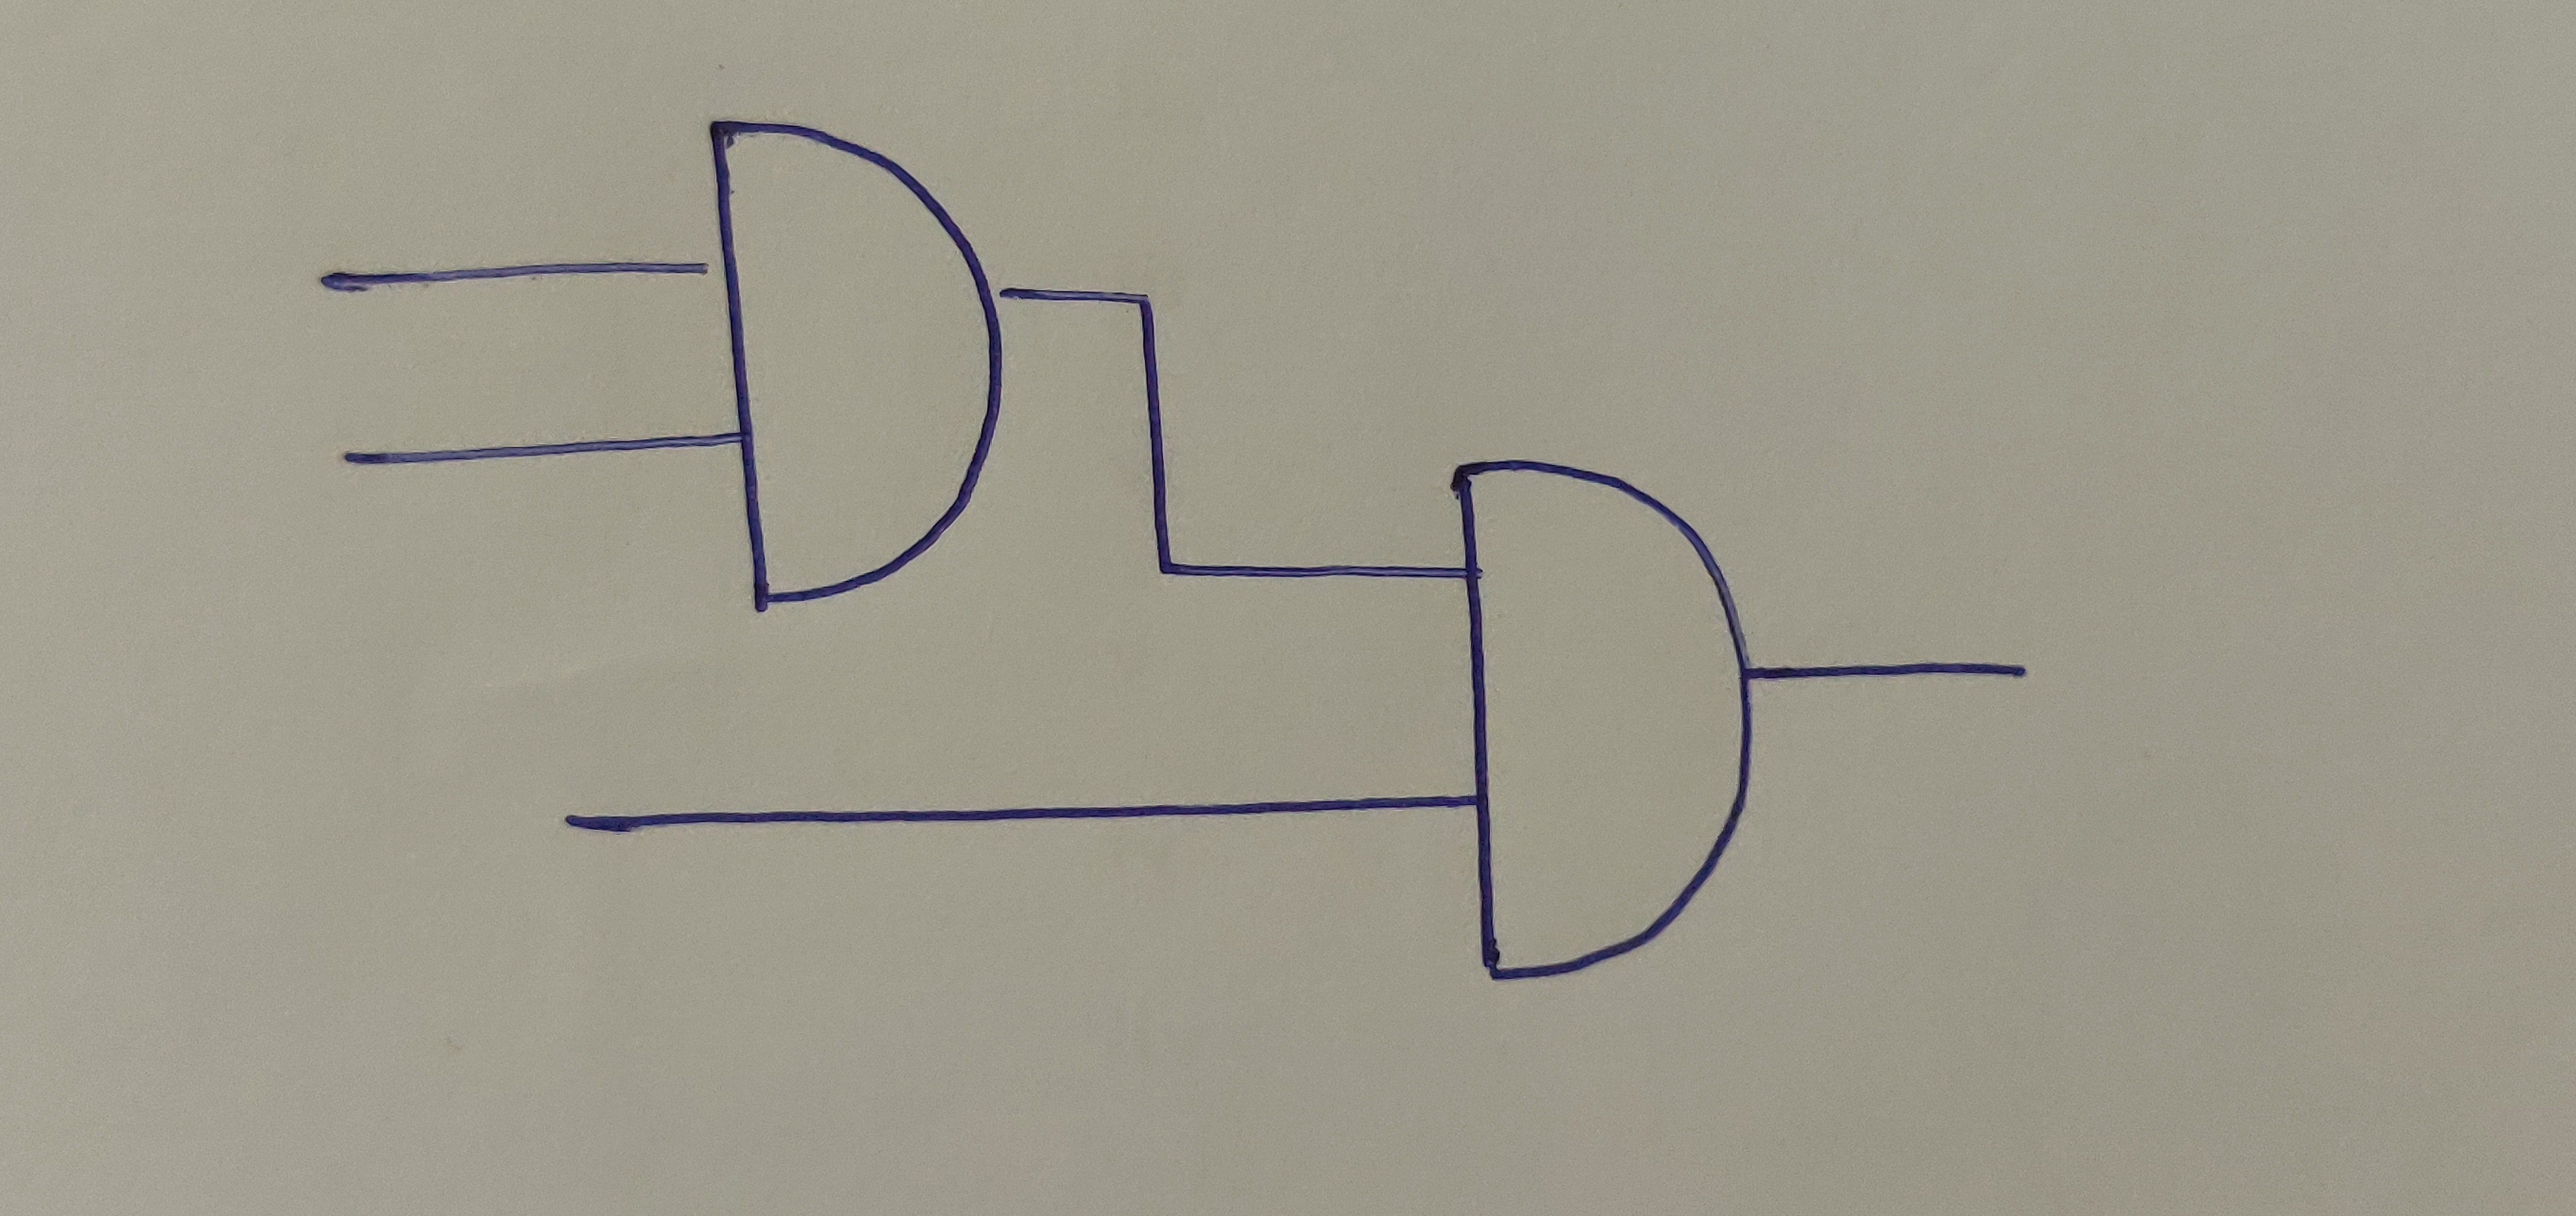and: (1447, 454, 1759, 983), (708, 113, 1004, 606)
